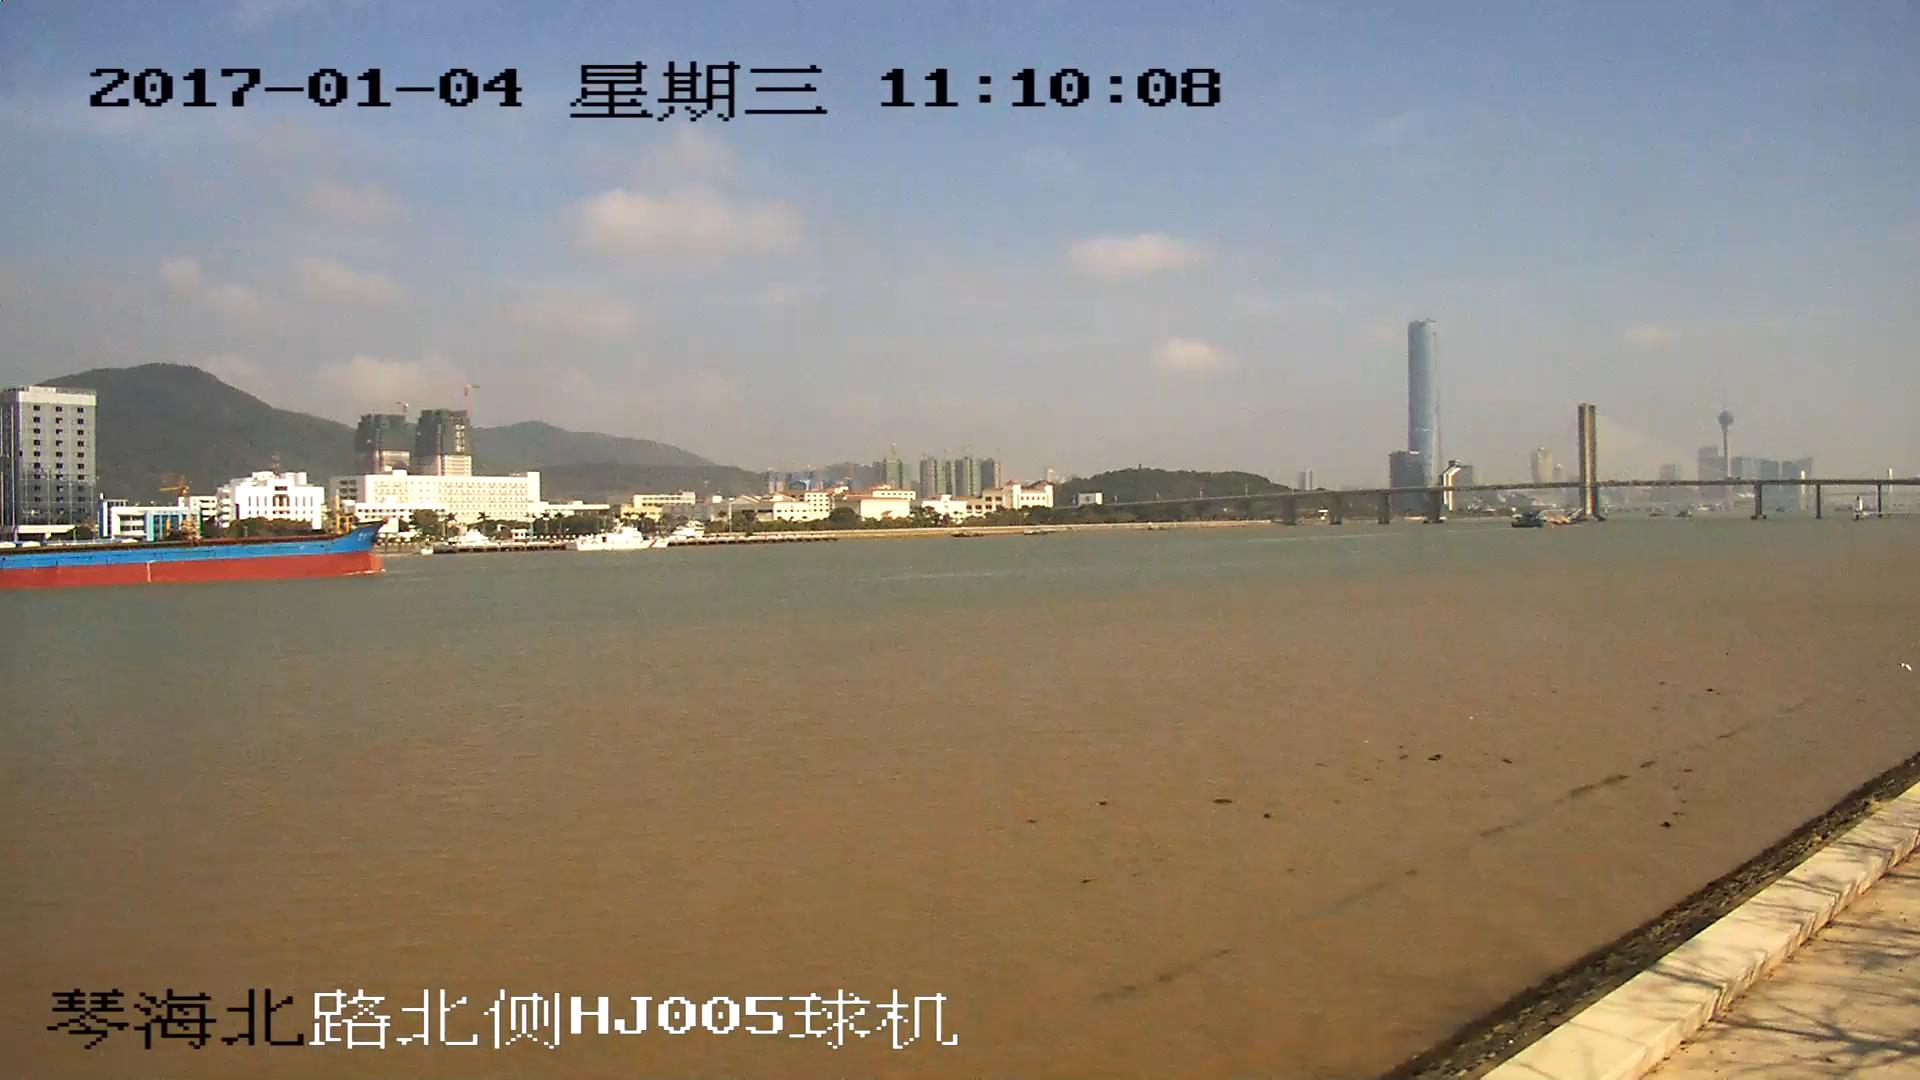general cargo ship: (1, 504, 385, 585)
